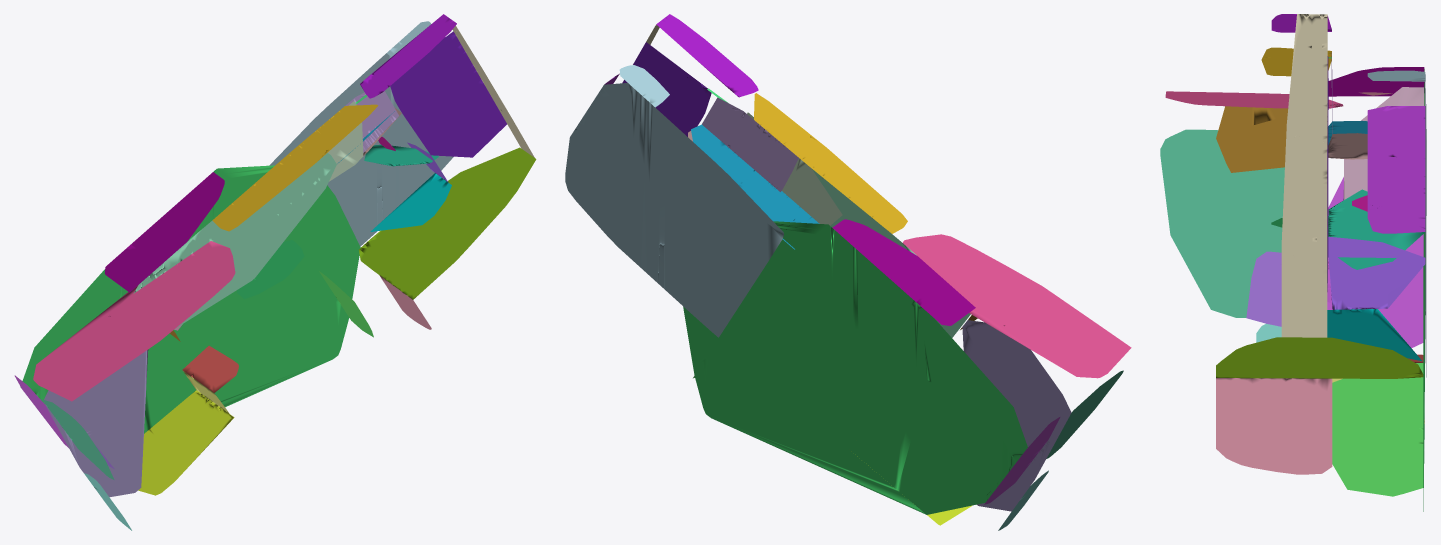
File: planarrecon_scene0131.glb
3 views of the same model, side by side, from view 1: azimuth 30°, elevation 25°; view 2: azimuth 150°, elevation 25°; view 3: azimuth 270°, elevation 25° (orthographic). The views are drawn at different scales.
Size of the model in its own units: 7.75 by 6.27 by 2.11.
